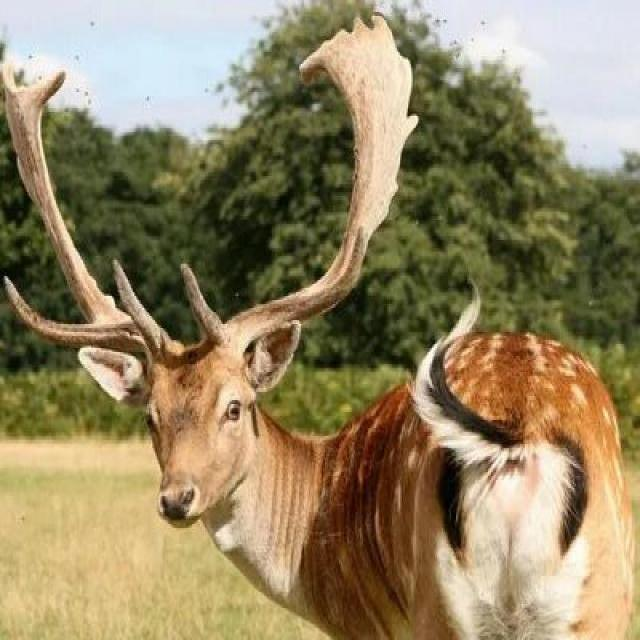deer: (13, 27, 627, 624)
